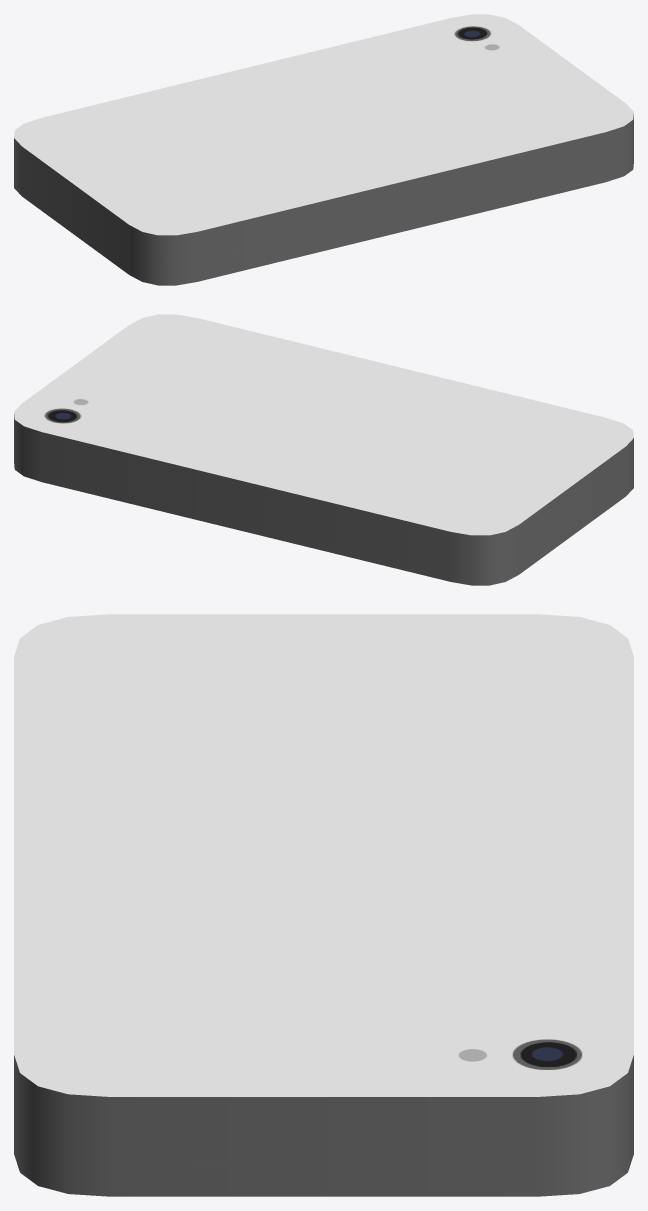
File: puhelin.FBX
The picture shows the model from 3 angles, top to bottom: view 1: azimuth 30°, elevation 25°; view 2: azimuth 150°, elevation 25°; view 3: azimuth 270°, elevation 25°; orthographic projection. The views are drawn at different scales.
Parts seen in each view (by area): view 1: puhelin; view 2: puhelin; view 3: puhelin.
Part boxes in pixels (<box>): puhelin: <box>14,14,633,285</box>; puhelin: <box>14,314,633,585</box>; puhelin: <box>14,614,633,1196</box>.
Bounding box in the file's own units: 6.08 × 0.5855 × 3.3.
Materials: 1 (1 with a texture image).
